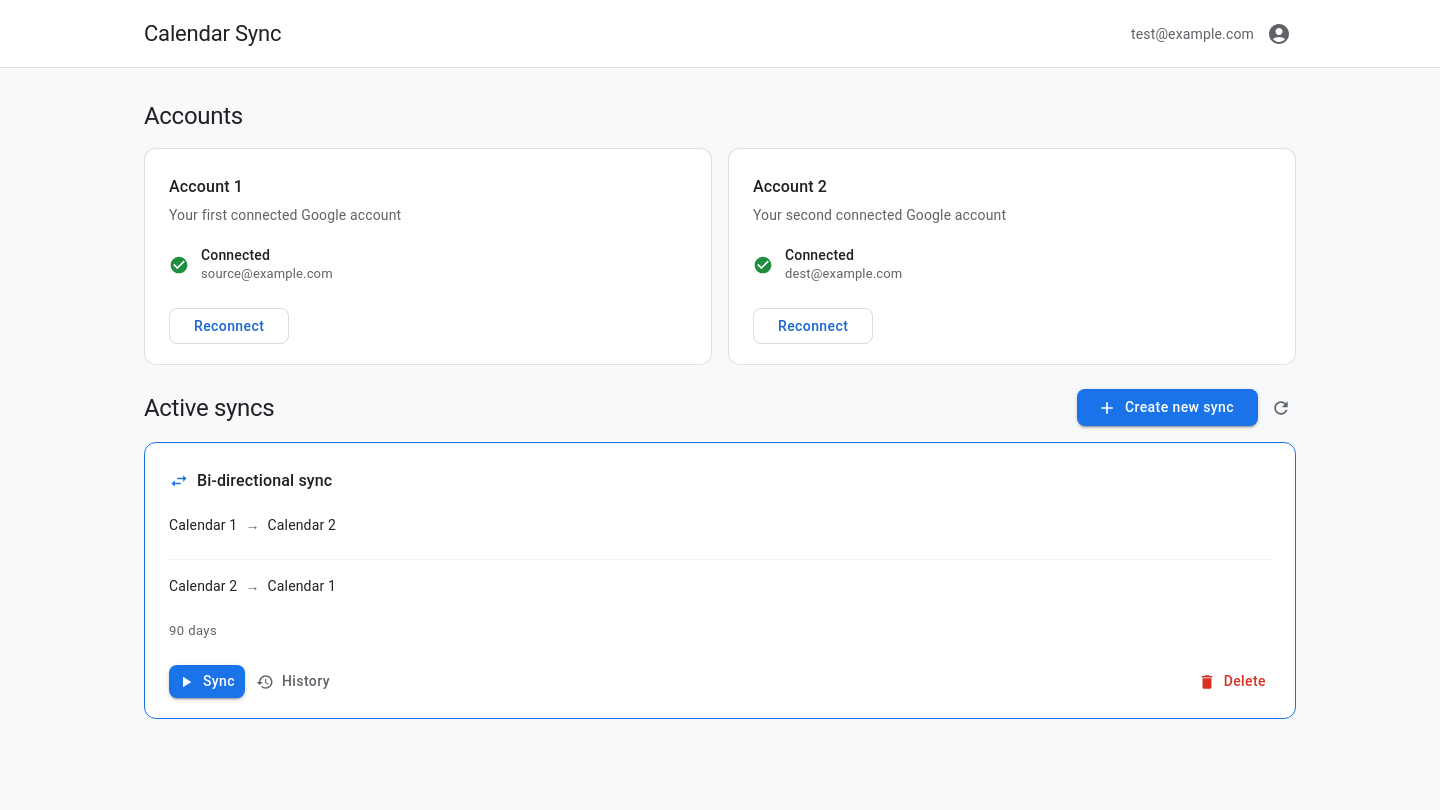
Test: Dashboard - Sync Deletion › Bi-directional sync deletion › should delete both configs and remove from UI
The width and height of the screenshot is (1440, 810).
Expected: the heading "Bi-directional sync" is shown, [197,467,332,495]
Click the delete button for bi-directional sync
Step 1. Click the button "Delete" → (1233, 682), box [1195,665,1271,698]
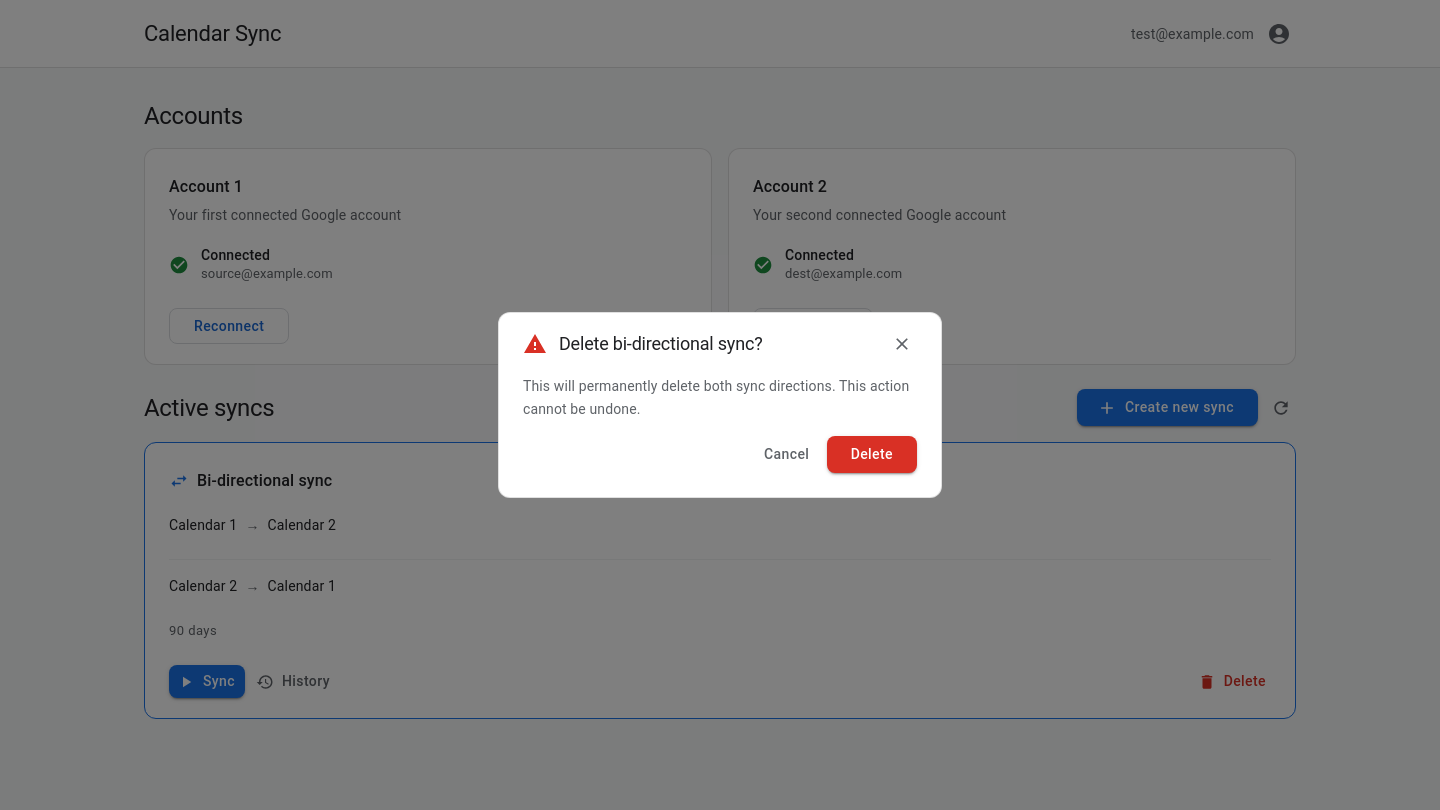
Confirm deletion in dialog
Step 2. Click the button "Delete" → (872, 454), box [827,436,917,473]
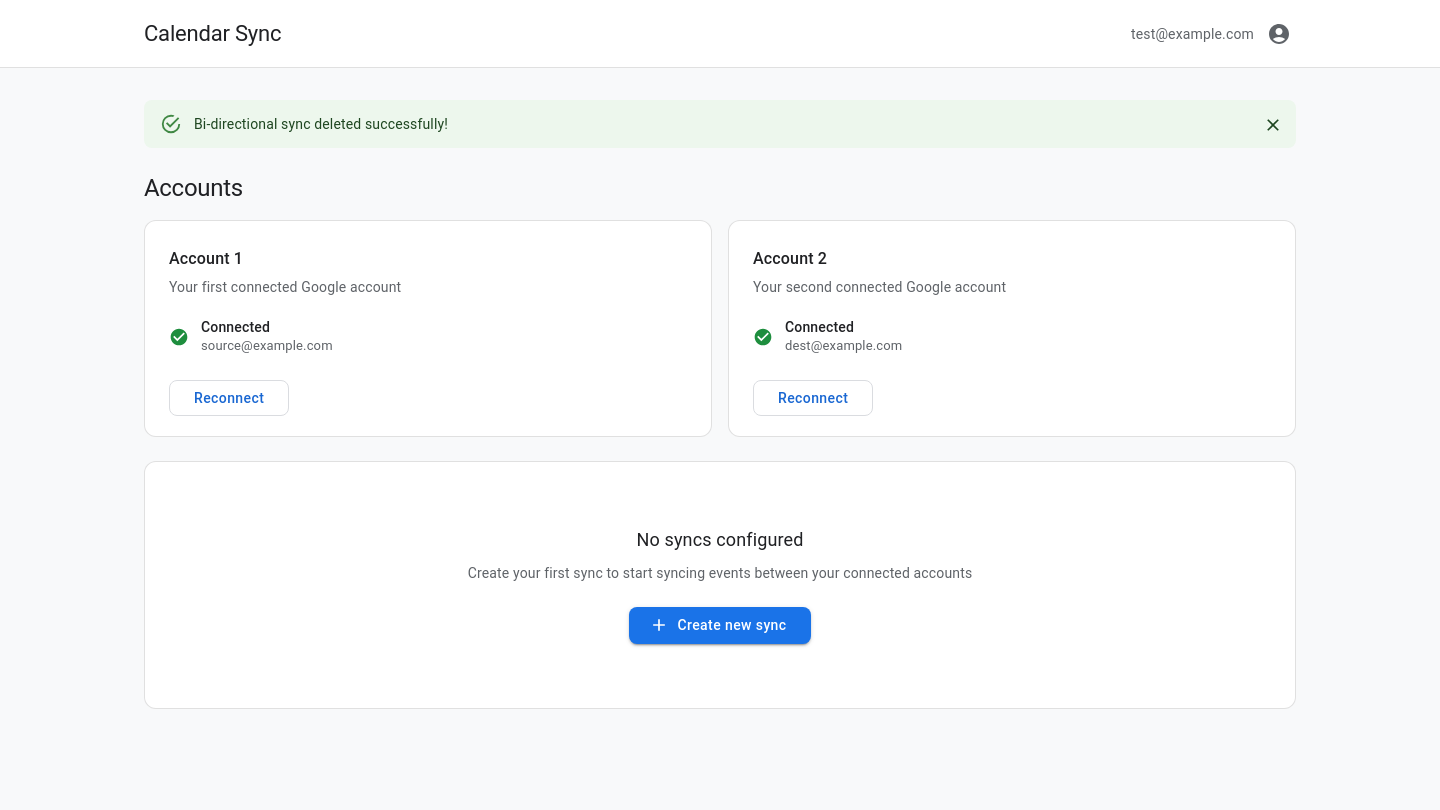
Result: the text "Bi-directional sync deleted successfully!" is shown at [194,116,448,132]
Result: the heading "Active syncs" is gone
